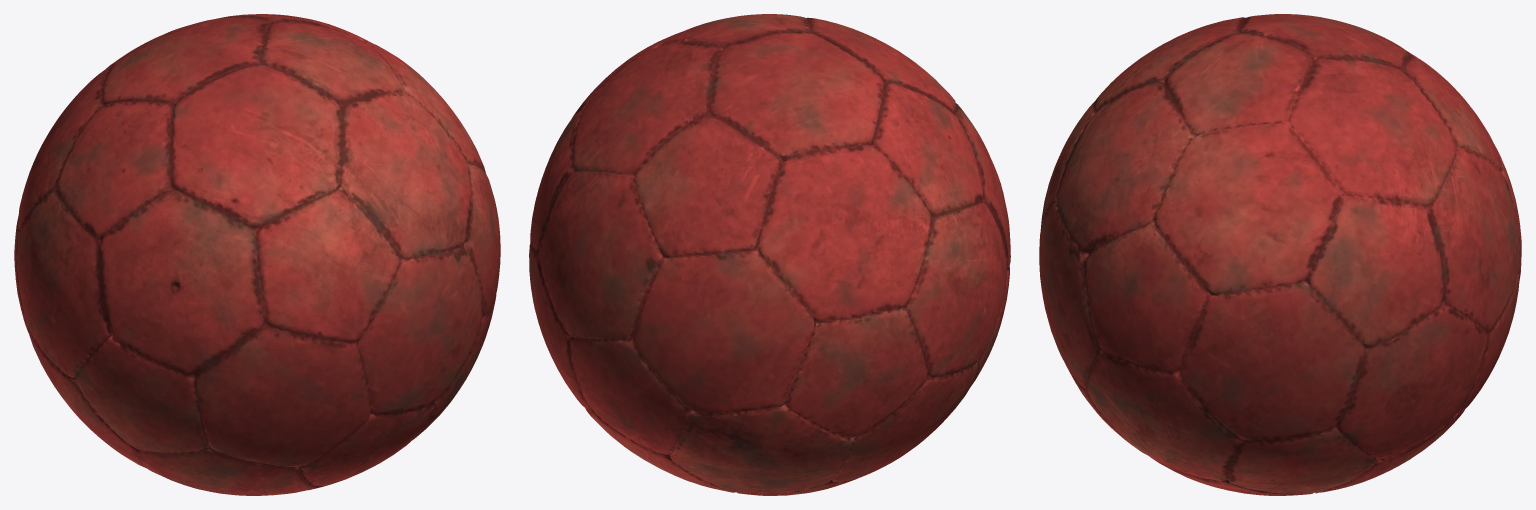
Rendered from dirty_football.glb.
The picture shows the model from 3 angles, left to right: view 1: azimuth 30°, elevation 25°; view 2: azimuth 150°, elevation 25°; view 3: azimuth 270°, elevation 25°; orthographic projection.
Parts seen in each view (by area): view 1: dirty_football; view 2: dirty_football; view 3: dirty_football.
Part boxes in pixels (bbox=[...]): dirty_football: bbox=[14, 14, 500, 495]; dirty_football: bbox=[529, 14, 1010, 495]; dirty_football: bbox=[1039, 14, 1521, 495].
Bounding box in the file's own units: 0.2214 × 0.22 × 0.22.
1 material, 1 textured.
